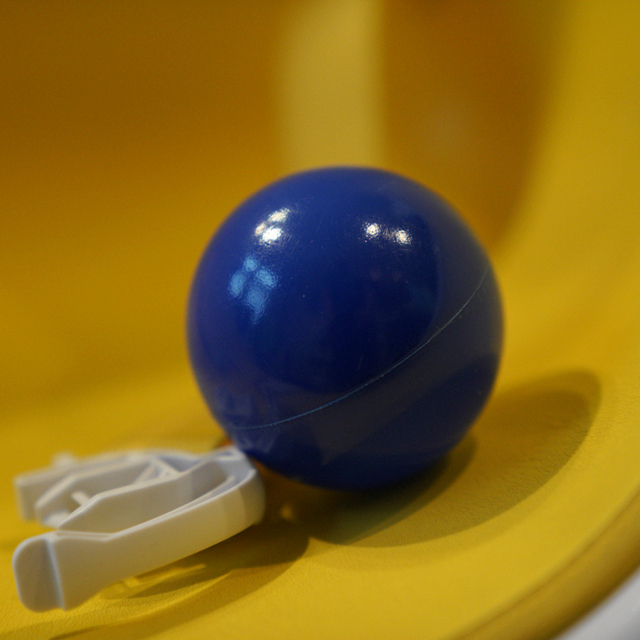Ball: (186, 165, 504, 493)
